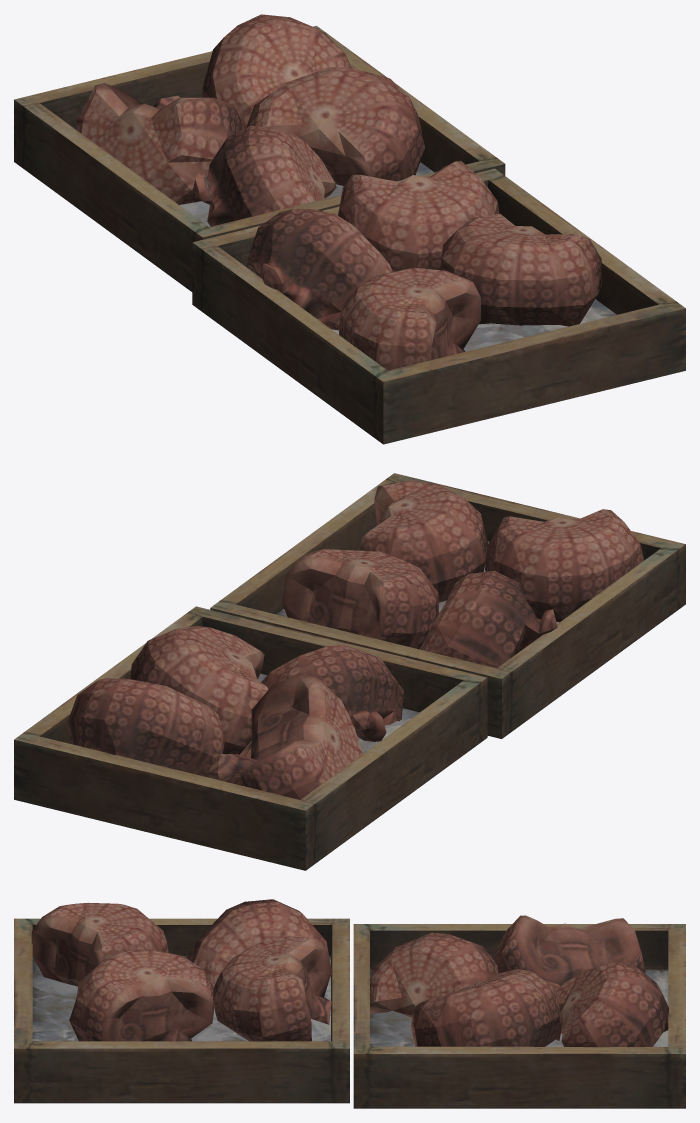
File: bg_lut_mawport_storeprop10_sm_artree.FBX
3 views of the same model, one above another, from view 1: azimuth 30°, elevation 25°; view 2: azimuth 150°, elevation 25°; view 3: azimuth 270°, elevation 25° (orthographic). The views are drawn at different scales.
Visible parts, largest first — view 1: bg_lut_mawport_storeprop10_sm_artree; view 2: bg_lut_mawport_storeprop10_sm_artree; view 3: bg_lut_mawport_storeprop10_sm_artree.
Part boxes in pixels (x1=…): bg_lut_mawport_storeprop10_sm_artree: x1=14, y1=14, x2=685, y2=444; bg_lut_mawport_storeprop10_sm_artree: x1=14, y1=473, x2=685, y2=870; bg_lut_mawport_storeprop10_sm_artree: x1=14, y1=899, x2=685, y2=1108.
Size of the model in its own units: 39.19 by 15.08 by 82.25.
